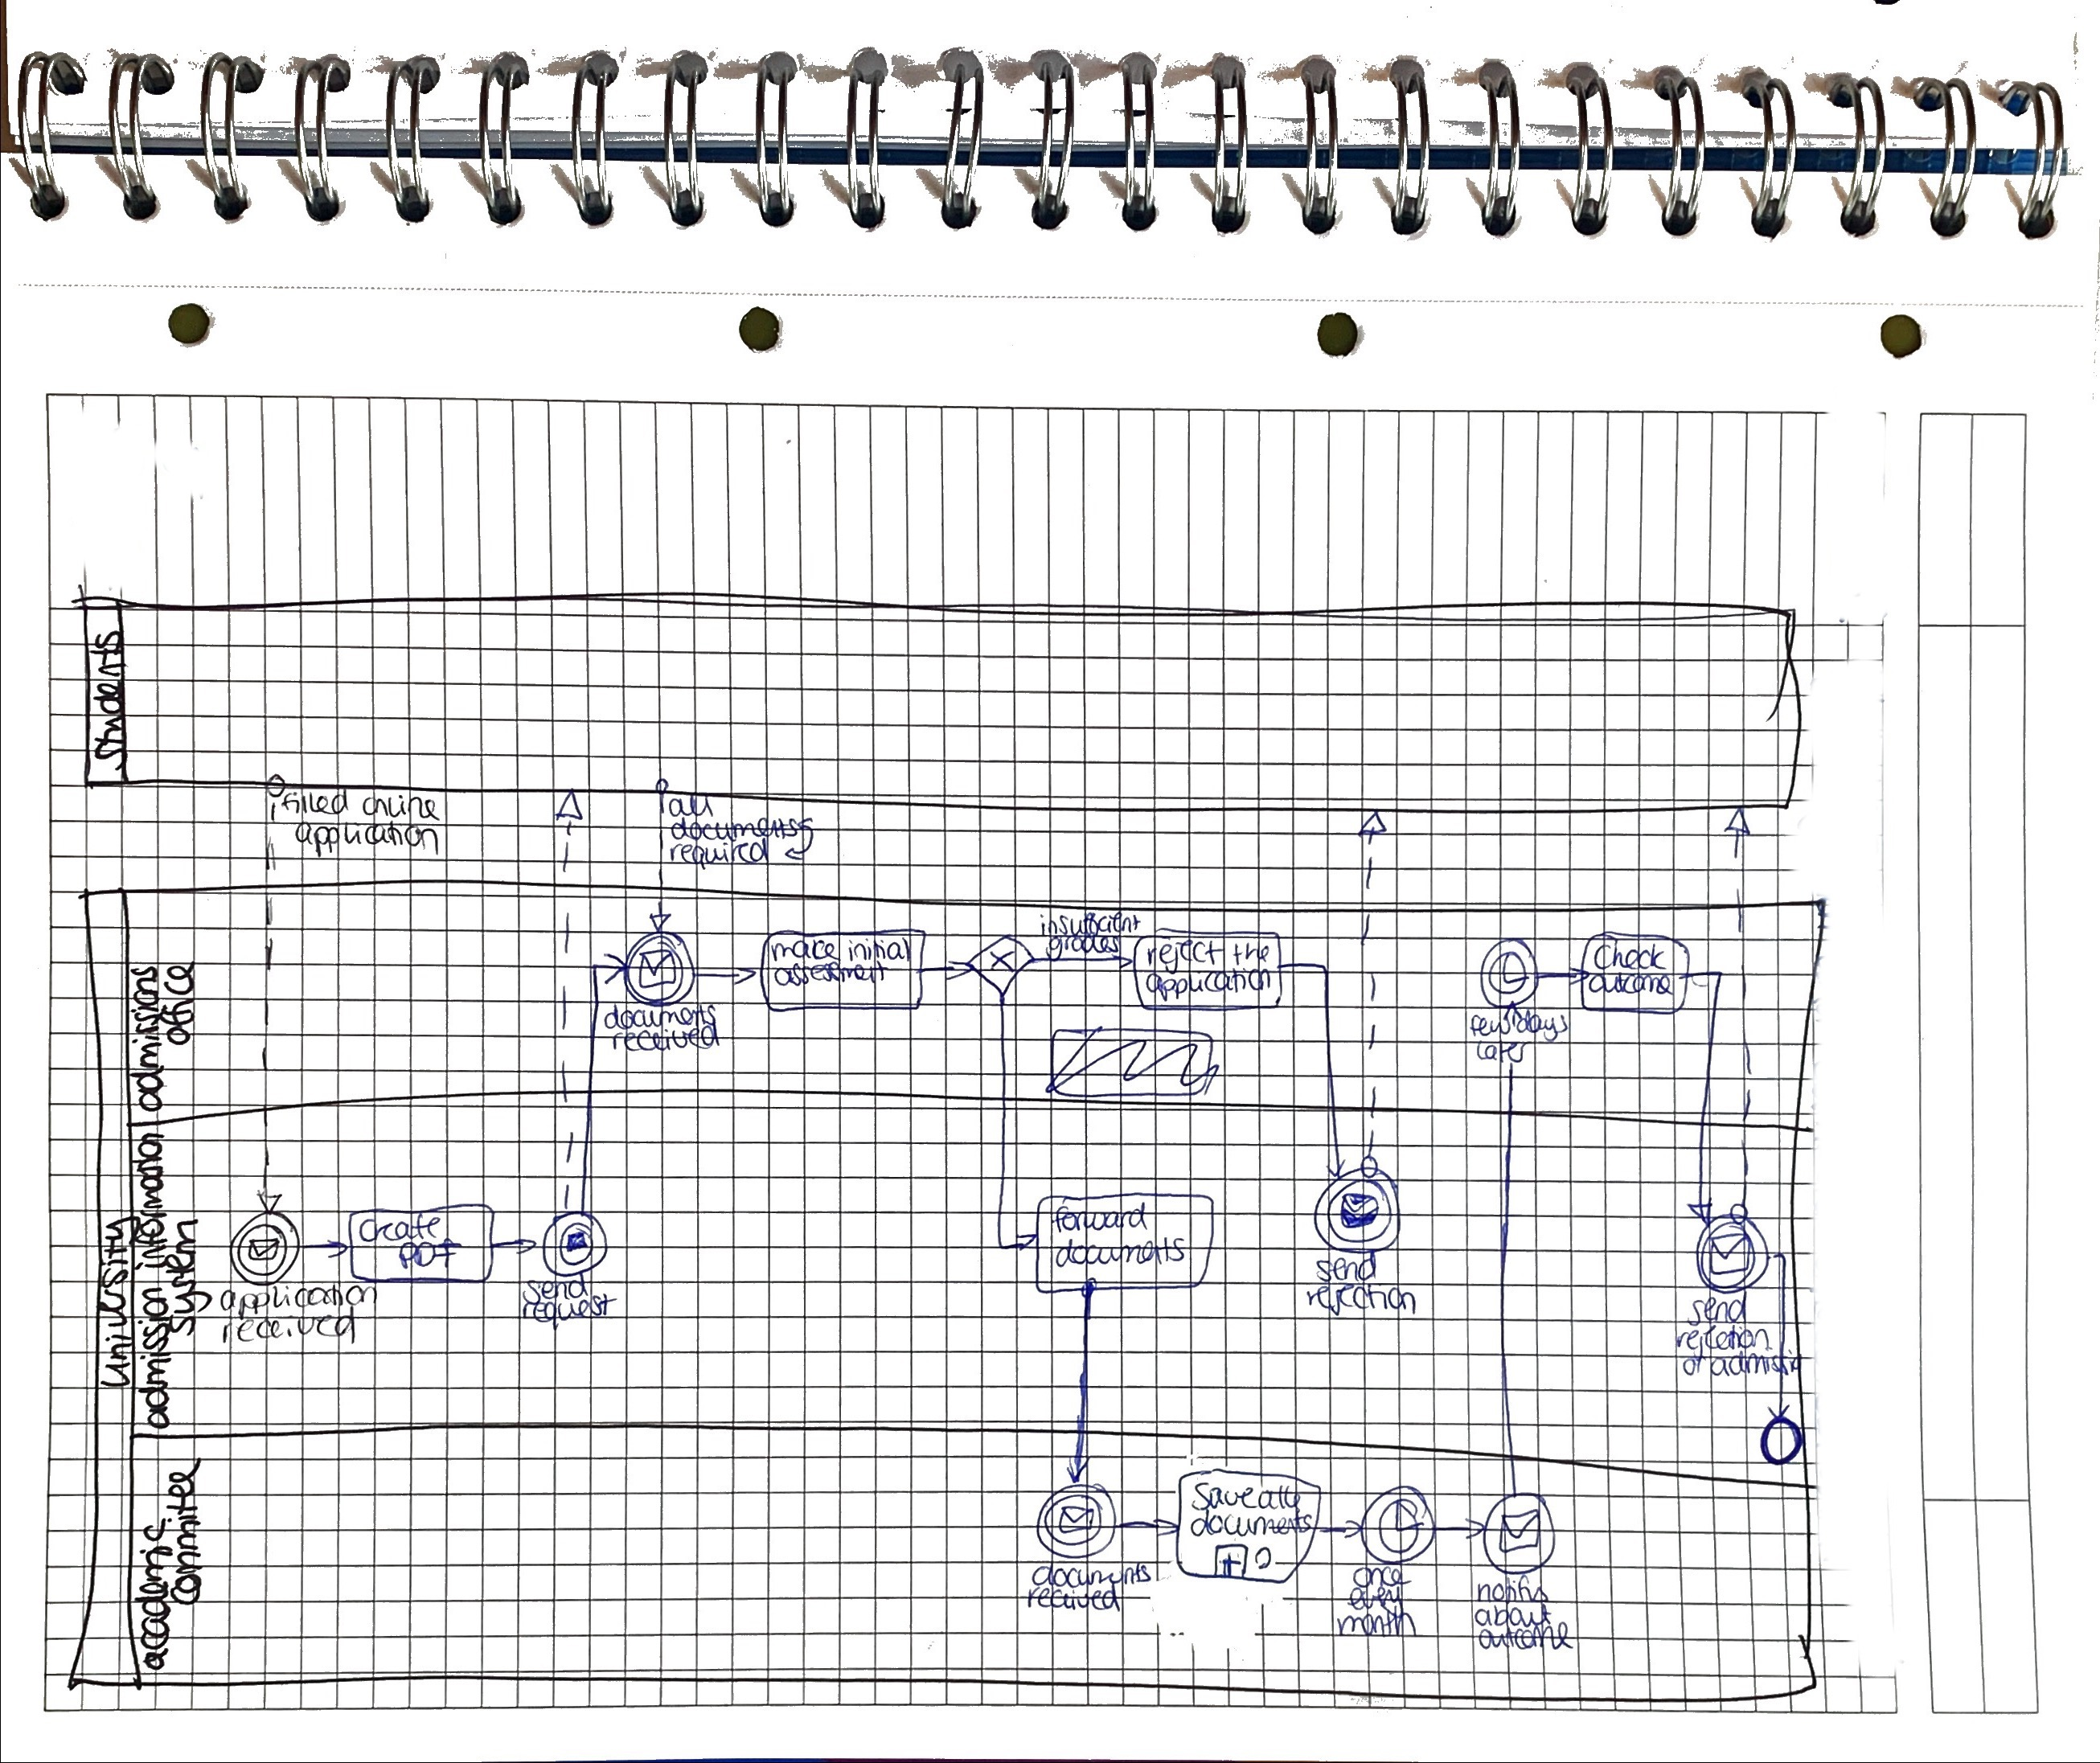Crate: (357, 1212, 441, 1249)
Office: (161, 963, 197, 1046)
PDF: (396, 1240, 459, 1269)
Students: (90, 618, 129, 764)
about: (1476, 1604, 1557, 1634)
academic: (131, 1503, 174, 1673)
admission: (135, 1289, 178, 1426), (1708, 1348, 1796, 1379)
admissions: (129, 966, 170, 1112)
all: (1255, 1480, 1303, 1511), (669, 792, 709, 817)
application: (211, 1277, 382, 1311), (293, 818, 441, 855), (1146, 966, 1279, 1004)
assessment: (765, 958, 892, 986)
check: (1588, 942, 1664, 978)
commitee: (160, 1462, 202, 1607)
days: (1514, 1013, 1563, 1037)
documents: (1024, 1552, 1159, 1589), (674, 812, 814, 846), (1047, 1236, 1183, 1270), (1191, 1507, 1319, 1540), (603, 998, 724, 1035)
every: (1343, 1578, 1403, 1614)
few: (1468, 1007, 1510, 1039)
filled: (272, 785, 351, 822)
forward: (1040, 1199, 1150, 1236)
grades: (1037, 928, 1135, 957)
information: (132, 1120, 174, 1281)
initial: (840, 937, 917, 967)
insufficient: (1035, 909, 1150, 948)
later: (1475, 1038, 1534, 1068)
mace: (775, 937, 835, 967)
month: (1345, 1603, 1413, 1638)
notify: (1475, 1580, 1545, 1611)
of: (1678, 1349, 1703, 1377)
once: (1345, 1556, 1406, 1586)
online: (355, 789, 446, 825)
outcome: (1583, 965, 1672, 997), (1472, 1625, 1572, 1651)
received: (213, 1314, 357, 1343), (607, 1025, 725, 1048), (1024, 1589, 1121, 1613)
reject: (1142, 933, 1220, 969)
rejection: (1308, 1277, 1418, 1319), (1675, 1322, 1768, 1355)
request: (523, 1287, 612, 1322)
required: (663, 835, 786, 871)
save: (1190, 1483, 1253, 1519)
send: (1307, 1248, 1390, 1295), (523, 1274, 592, 1305), (1685, 1295, 1744, 1330)
system: (166, 1208, 207, 1334)
the: (1225, 935, 1277, 970)
university: (97, 1216, 146, 1382)
